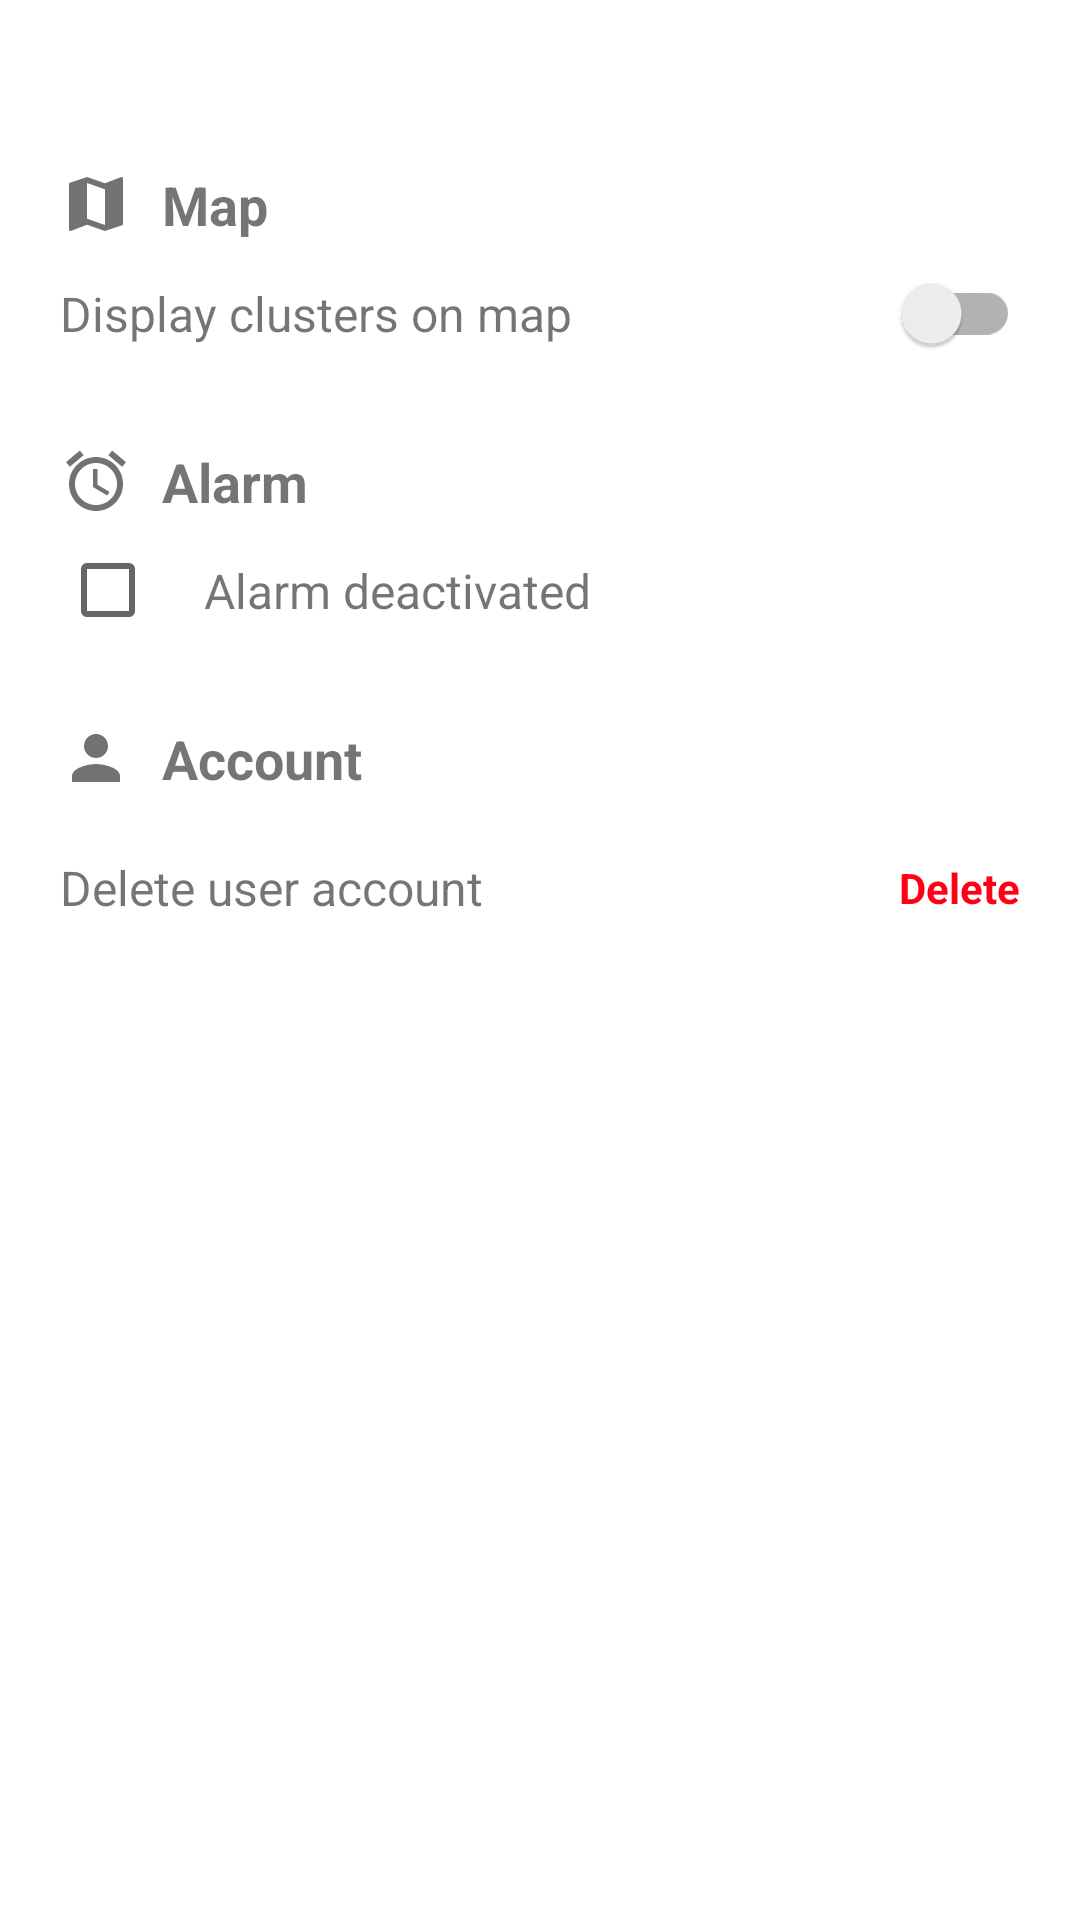

Screen size 1080*1920. Icon name, then its box in pixels as (x1, y1, x2, y2):
Map option icon: (69, 177, 123, 231)
